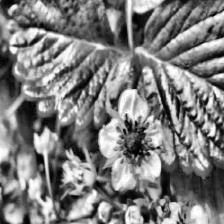Blossom Blight: (109, 112, 155, 177)
